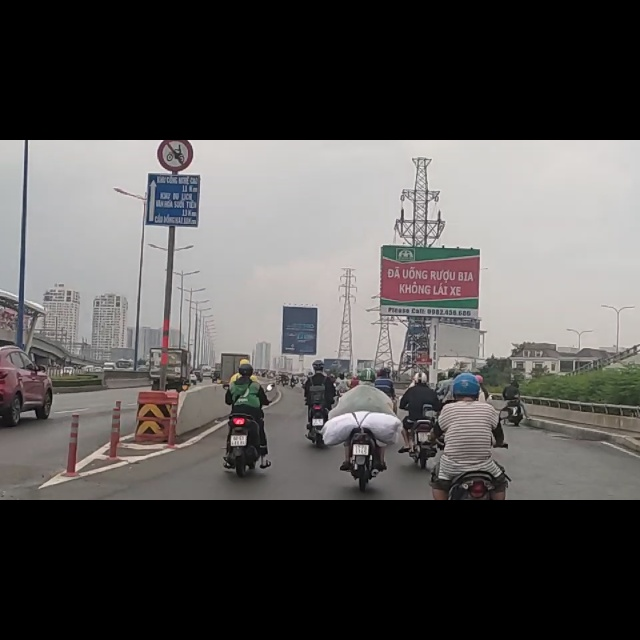bien_cam: (156, 1, 194, 55)
